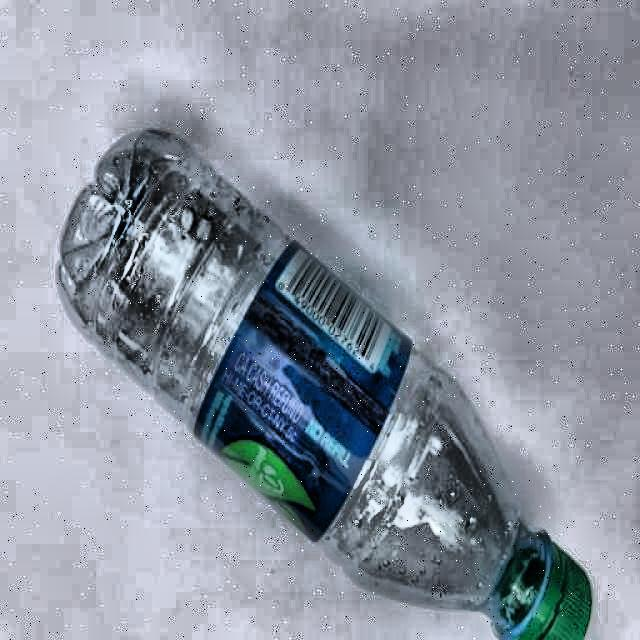plastic: (56, 128, 596, 640)
